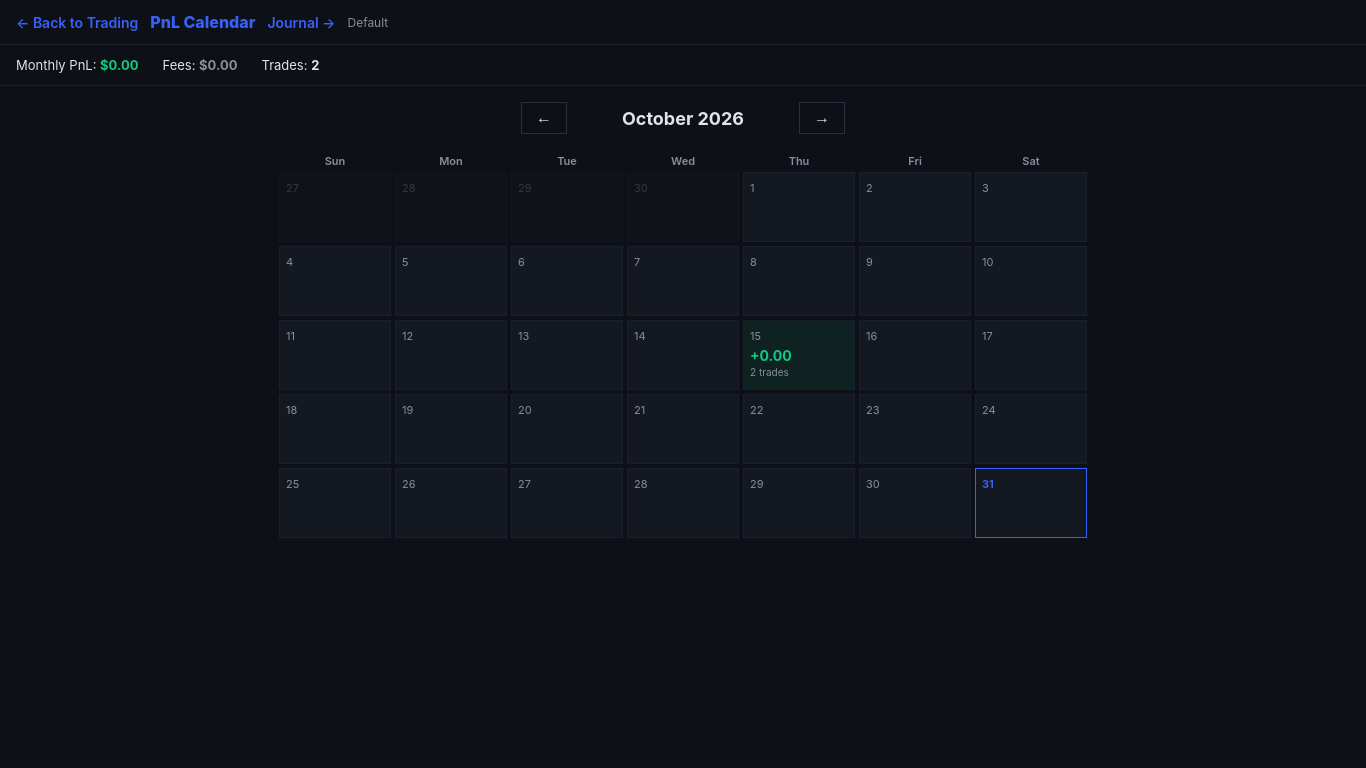
PnlCalendar — spread group rendering › shows "net credit" for an opened spread with positive net premium (credit spread)
The image size is (1366, 768).
Click the element showing "15 +0.00 2 trades" at (799, 355), box [743, 320, 855, 390]
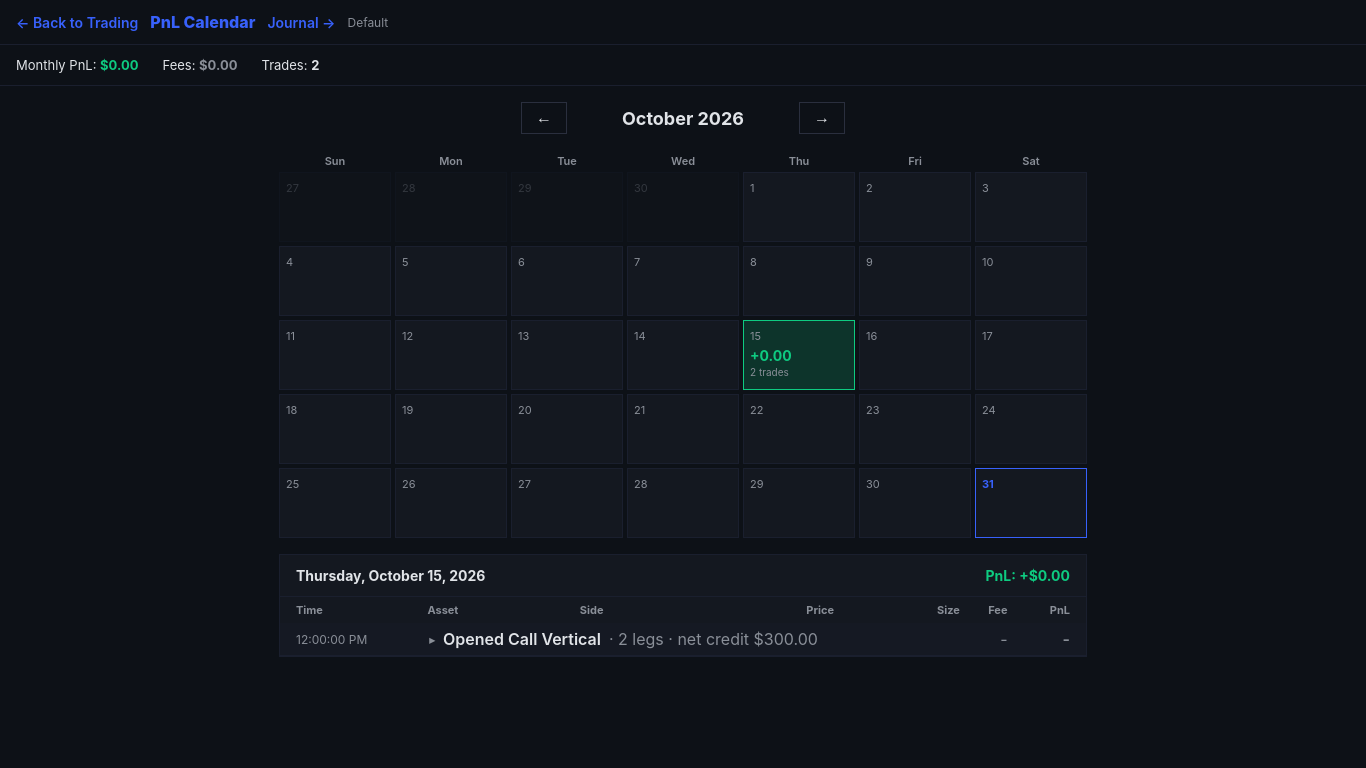
Check: the row titled "Expand legs" shows "net credit $300.00", box [677, 629, 818, 649]
